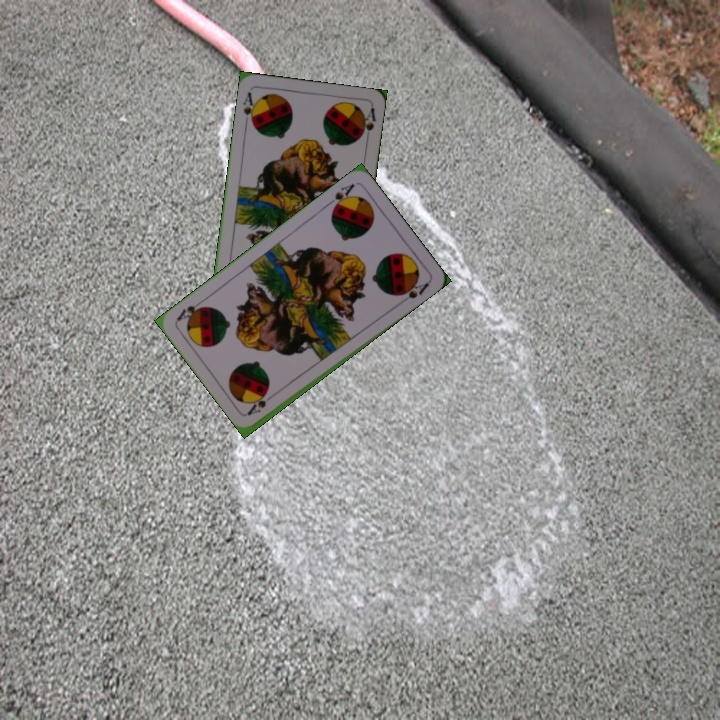SA: (322, 179, 358, 214), (239, 88, 259, 129), (243, 396, 269, 418)
